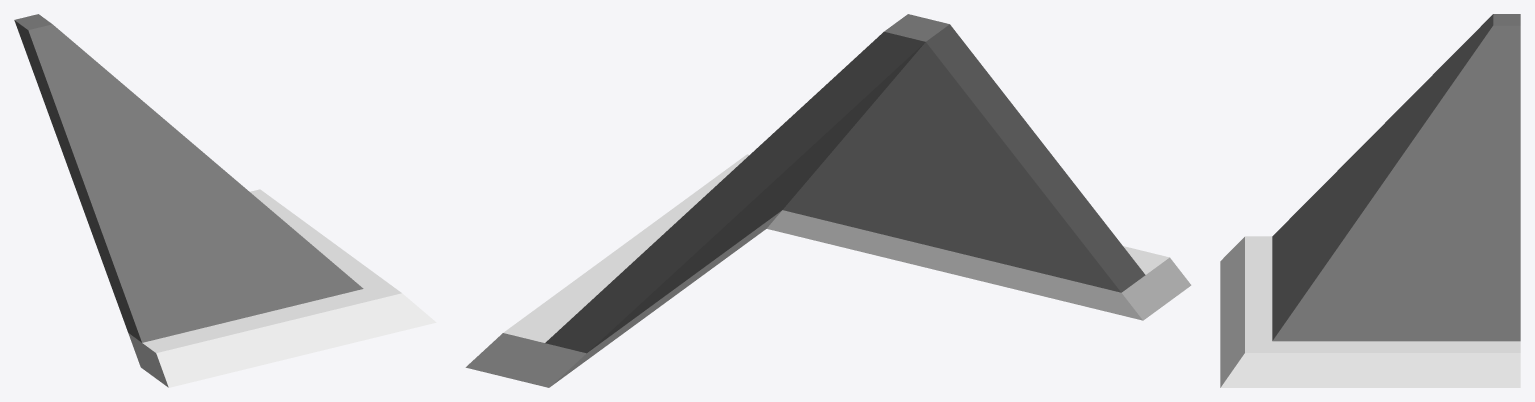
The model's file is RoofSlopeCorner.glb.
The picture shows the model from 3 angles, left to right: view 1: azimuth 30°, elevation 25°; view 2: azimuth 150°, elevation 25°; view 3: azimuth 270°, elevation 25°; orthographic projection. The views are drawn at different scales.
Parts seen in each view (by area): view 1: RoofSlopeCorner; view 2: RoofSlopeCorner; view 3: RoofSlopeCorner.
Boxes of the visible parts, x1=… form: RoofSlopeCorner: x1=14, y1=14, x2=436, y2=387; RoofSlopeCorner: x1=465, y1=14, x2=1191, y2=387; RoofSlopeCorner: x1=1220, y1=14, x2=1520, y2=387.
Size of the model in its own units: 1.1 by 1 by 1.1.
Materials: 1 (1 with a texture image).
